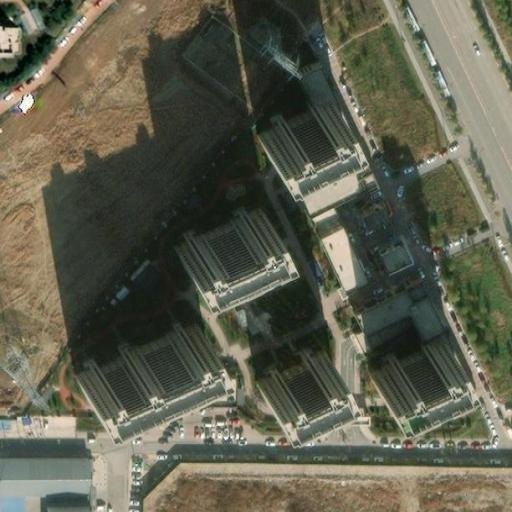building: (65, 316, 194, 393), (169, 196, 263, 259), (361, 329, 445, 387), (247, 90, 331, 148), (351, 288, 422, 349), (249, 337, 327, 390), (318, 219, 371, 291), (0, 451, 80, 490), (376, 236, 416, 274), (22, 0, 94, 12), (0, 29, 15, 64), (502, 416, 512, 430)
